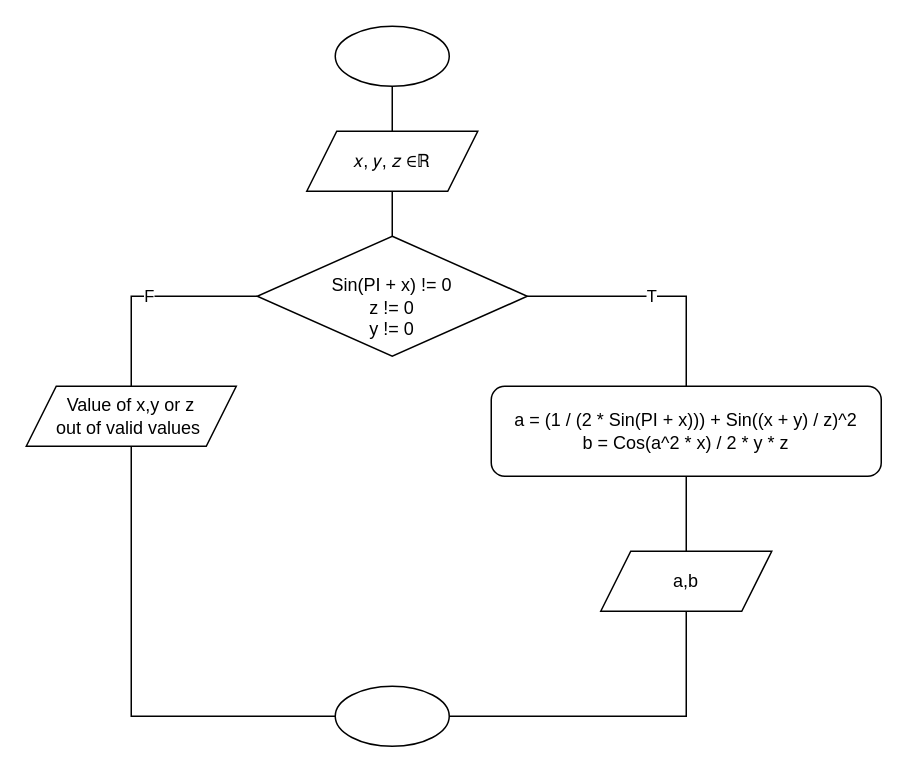
The diagram is 908 pixels wide and 773 high, and some of its shapes have lost their labels. Each missing label, with the centre of its shape:
end: point (391, 715)
Start: point (391, 55)
